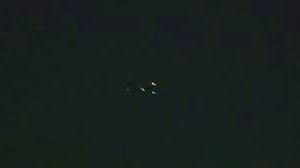Plane: (123, 72, 161, 102)
